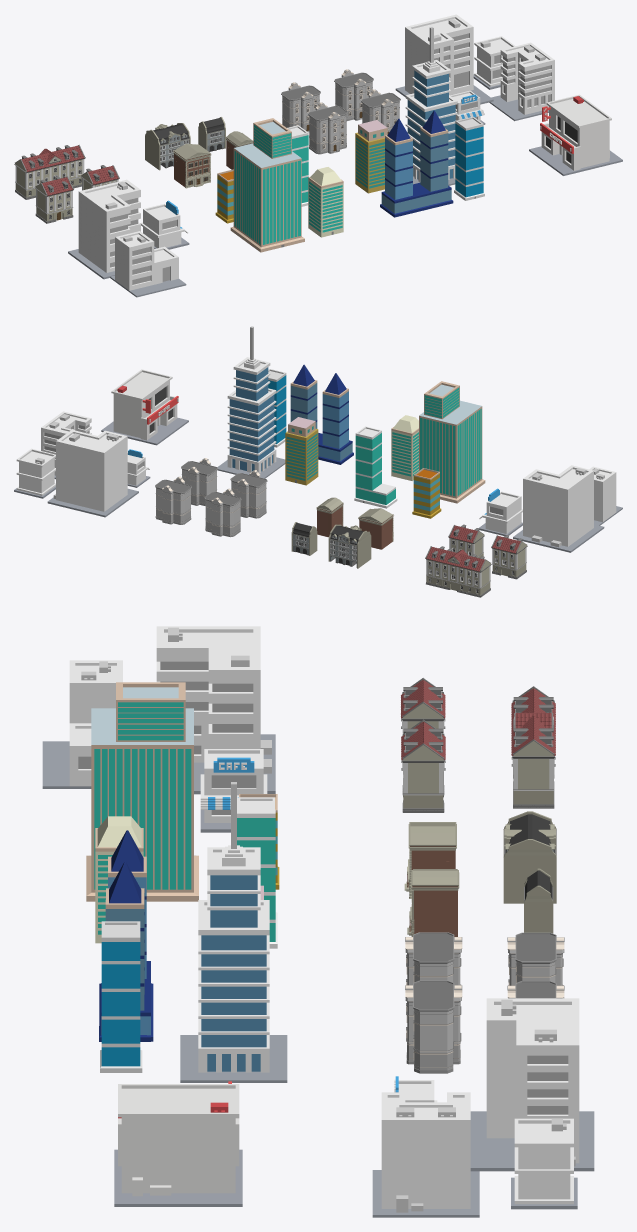
File: now_upper_half_v1.fbx
3 renders of one model, top to bottom at view 1: azimuth 30°, elevation 25°; view 2: azimuth 150°, elevation 25°; view 3: azimuth 270°, elevation 25°, orthographic. The views are drawn at different scales.
Parts seen in each view (by area): view 1: building; view 2: building; view 3: building.
Part boxes in pixels (x1,y1,x2,y2): building: [14, 14, 622, 297]; building: [14, 326, 622, 597]; building: [42, 626, 594, 1217].
Size of the model in its own units: 75775 by 20811 by 37120.
